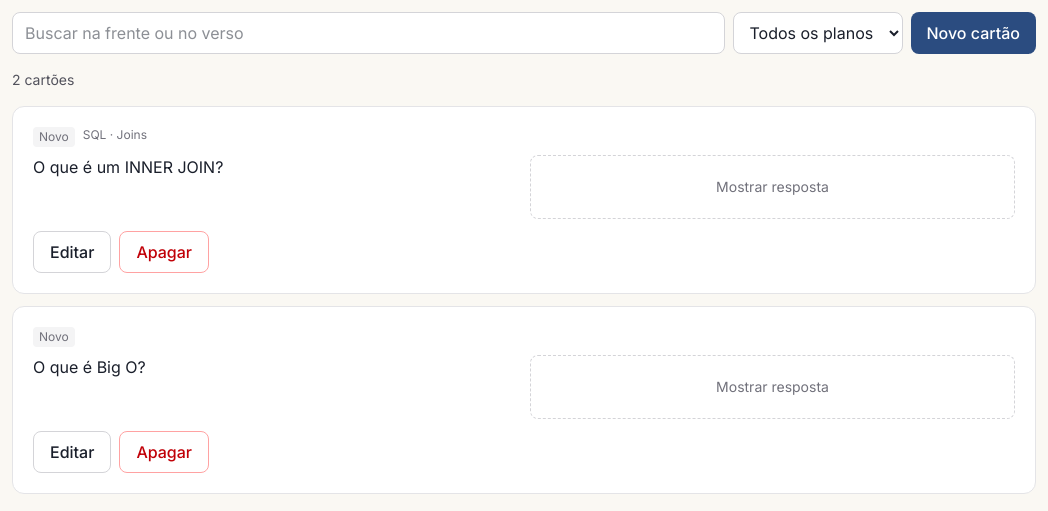
Scenario: Cartões › buscar 'join' filtra a lista
The width and height of the screenshot is (1048, 511).
Expected: the text "O que é Big O?" is shown, [33, 357, 146, 377]
Type "join" into the search field.
click(368, 33); type("join")  # box [12, 12, 724, 54]
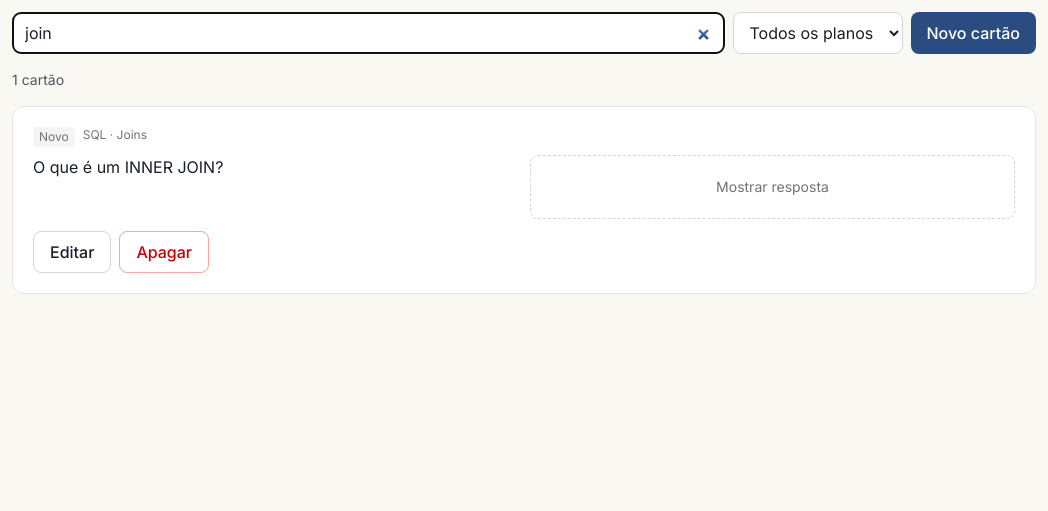
Expected: the text "O que é um INNER JOIN?" is shown, [33, 157, 223, 177]
Expected: the text "O que é Big O?" is gone
